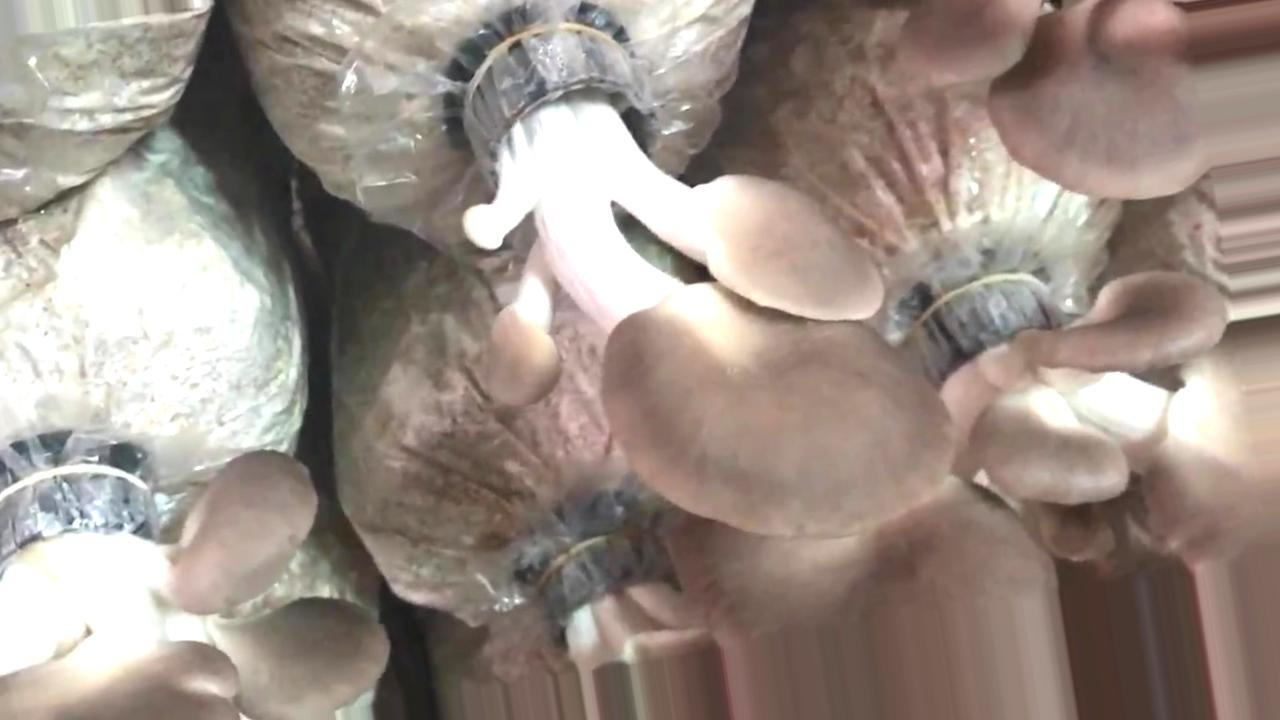nam: (463, 27, 946, 543), (909, 277, 1280, 717), (1, 450, 392, 716), (893, 3, 1275, 200)
